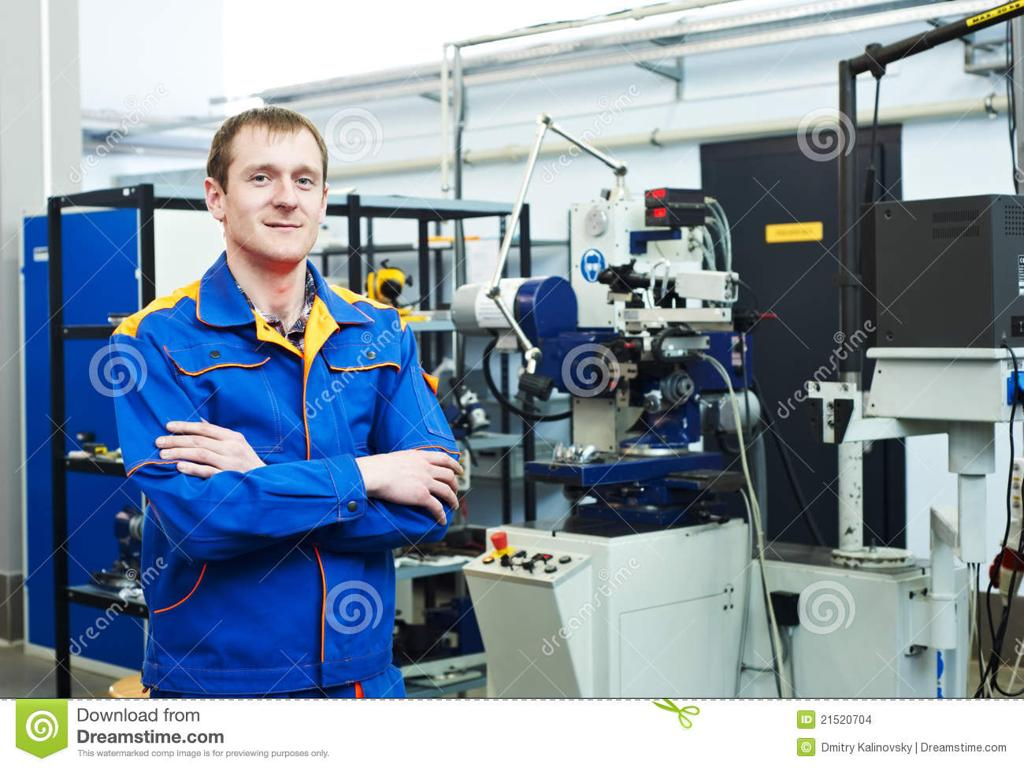face: (228, 122, 324, 252)
